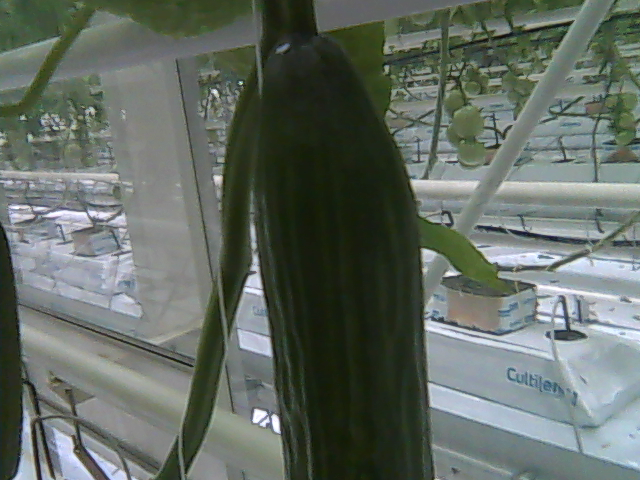concombre: (248, 10, 438, 480)
